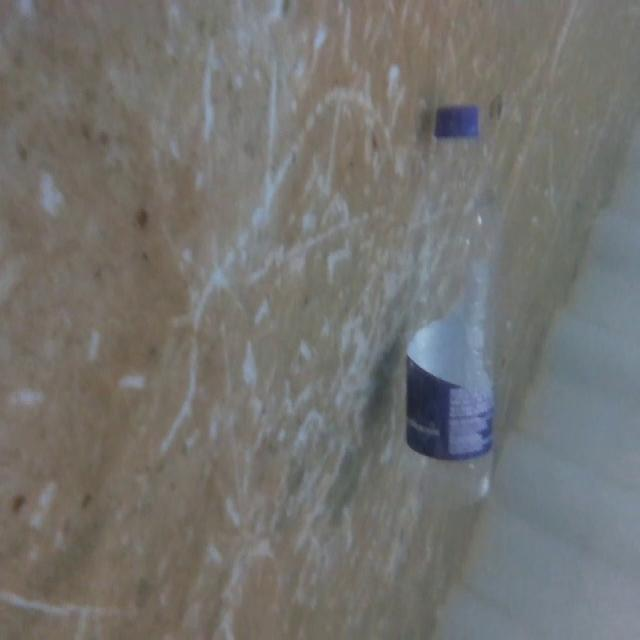plastic bottle: (390, 91, 501, 502)
